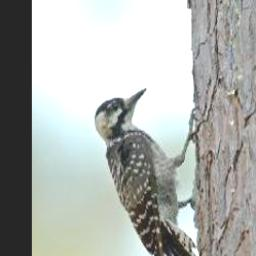Woodpecker: (90, 87, 210, 256)
